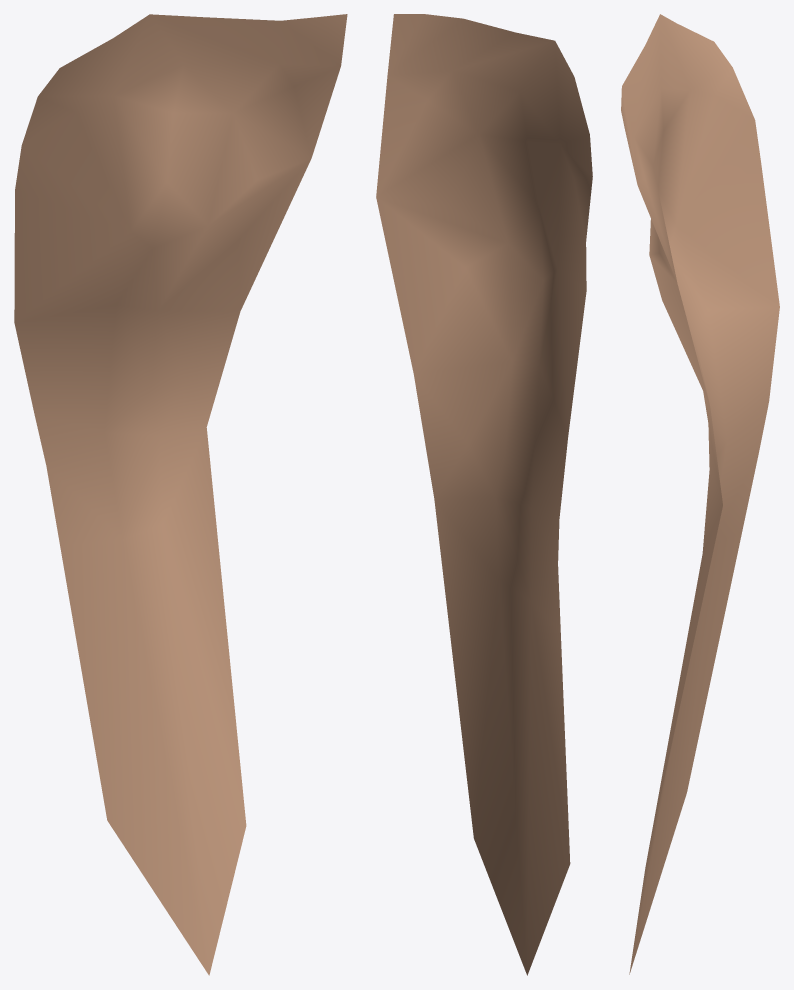
File: fossa-antihelica-r.glb
The picture shows the model from 3 angles, left to right: view 1: azimuth 30°, elevation 25°; view 2: azimuth 150°, elevation 25°; view 3: azimuth 270°, elevation 25°; orthographic projection. The views are drawn at different scales.
Parts seen in each view (by area): view 1: Fossa antihelica.r; view 2: Fossa antihelica.r; view 3: Fossa antihelica.r.
Part boxes in pixels (box(x1,y1,x2,y2)): Fossa antihelica.r: box(14, 14, 347, 975); Fossa antihelica.r: box(376, 14, 592, 975); Fossa antihelica.r: box(621, 14, 779, 974).
Bounding box in the file's own units: 0.00884 × 0.0308 × 0.00472.
